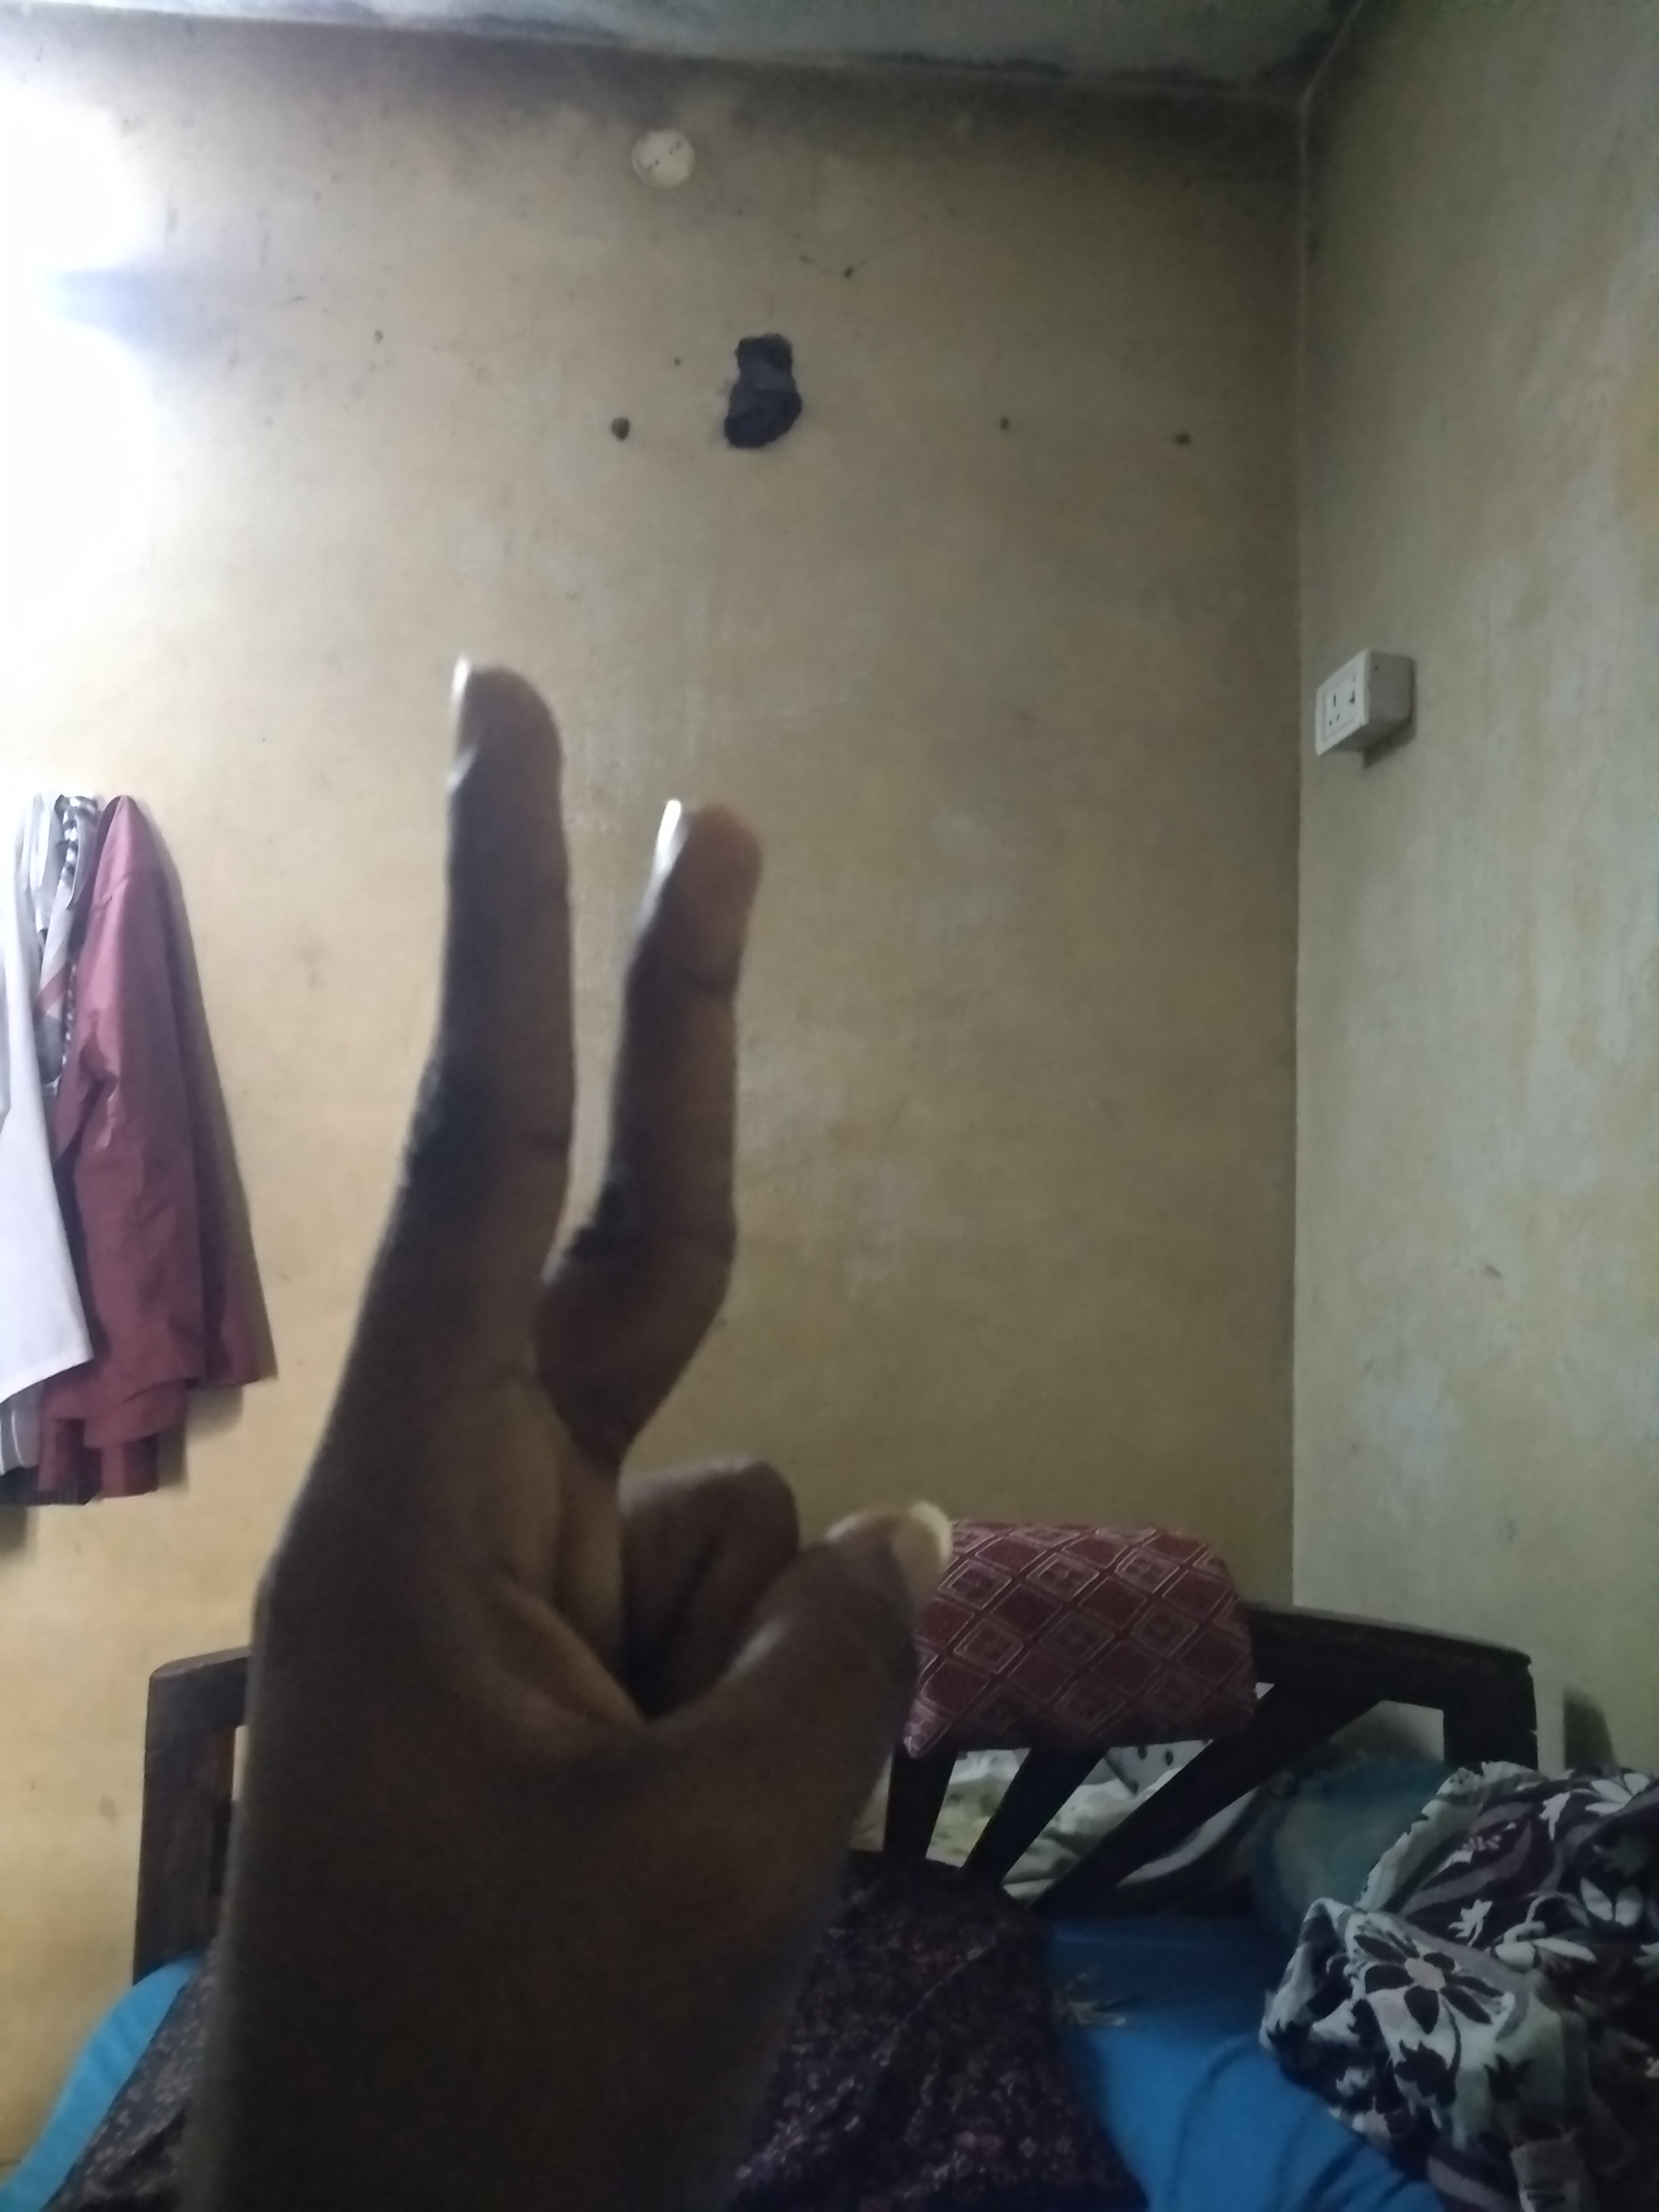two: (357, 646, 423, 820)
